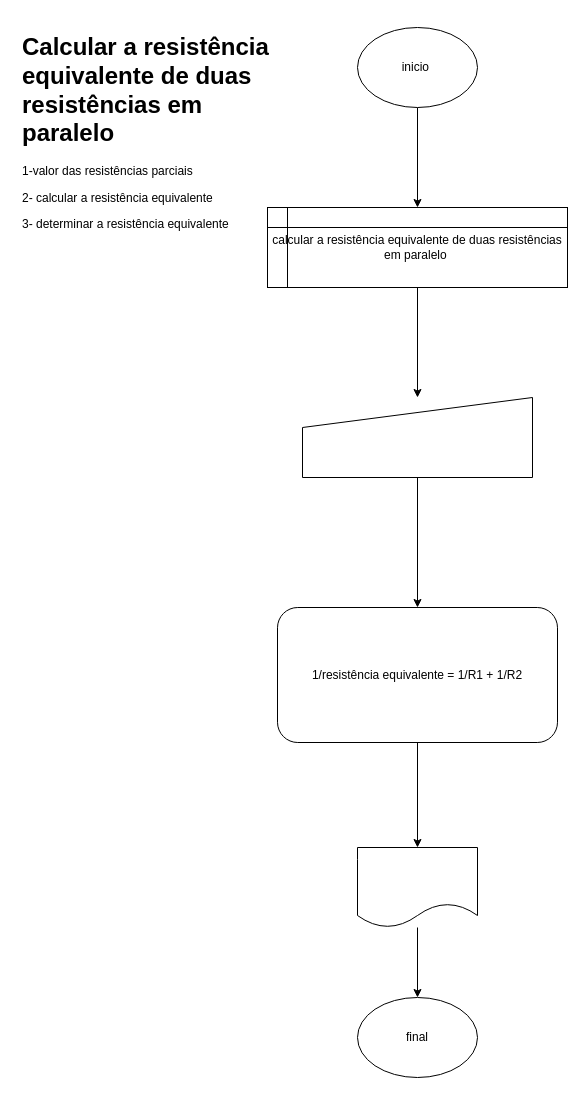
The diagram is 585 pixels wide and 1095 high, and some of its shapes have lost their labels. The shapes that lost their labels are listed below. From the top down, each one's centre as x and y in pixels, then its label:
At (417,437): "valor das resistências parciais, definir como R1 eR2".
At (417,887): "valor da resistência equivalente em ohms".
